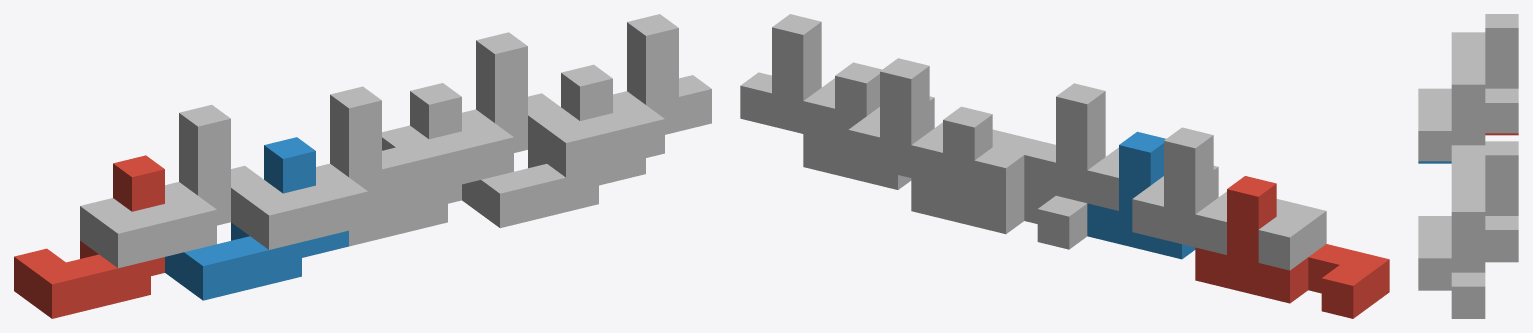
File: tiling.obj
The picture shows the model from 3 angles, left to right: view 1: azimuth 30°, elevation 25°; view 2: azimuth 150°, elevation 25°; view 3: azimuth 270°, elevation 25°; orthographic projection. The views are drawn at different scales.
Visible parts, largest first — view 1: copy_1_domain_4, copy_1_domain_8, copy_1_domain_3, copy_1_domain_7, copy_1_domain_1, copy_1_domain_2, copy_1_domain_6, copy_1_domain_5; view 2: copy_1_domain_1, copy_1_domain_3, copy_1_domain_7, copy_1_domain_5, copy_1_domain_4, copy_1_domain_8, copy_1_domain_2, copy_1_domain_6; view 3: copy_1_domain_8, copy_1_domain_4, copy_1_domain_3, copy_1_domain_7, copy_1_domain_6, copy_1_domain_1, copy_1_domain_2, copy_1_domain_5.
Boxes of the visible parts, box(x1,y1,x2,y2) form: copy_1_domain_4: box(231, 86, 414, 249); copy_1_domain_8: box(528, 14, 711, 177); copy_1_domain_3: box(80, 104, 263, 268); copy_1_domain_7: box(382, 32, 560, 195); copy_1_domain_1: box(14, 155, 164, 318); copy_1_domain_2: box(165, 137, 348, 300); copy_1_domain_6: box(462, 64, 645, 228); copy_1_domain_5: box(349, 83, 461, 246); copy_1_domain_1: box(1195, 176, 1389, 318); copy_1_domain_3: box(1132, 127, 1326, 270); copy_1_domain_7: box(848, 58, 1041, 200); copy_1_domain_5: box(911, 106, 1087, 249); copy_1_domain_4: box(1024, 83, 1218, 210); copy_1_domain_8: box(740, 14, 934, 141); copy_1_domain_2: box(1087, 131, 1195, 259); copy_1_domain_6: box(803, 62, 911, 189); copy_1_domain_8: box(1418, 197, 1485, 316); copy_1_domain_4: box(1418, 70, 1485, 161); copy_1_domain_3: box(1451, 14, 1518, 133); copy_1_domain_7: box(1451, 141, 1518, 260); copy_1_domain_6: box(1418, 288, 1485, 318); copy_1_domain_1: box(1485, 133, 1518, 135); copy_1_domain_2: box(1418, 161, 1451, 163); copy_1_domain_5: box(1485, 260, 1518, 262).
Size of the model in its own units: 20 by 4 by 3.
